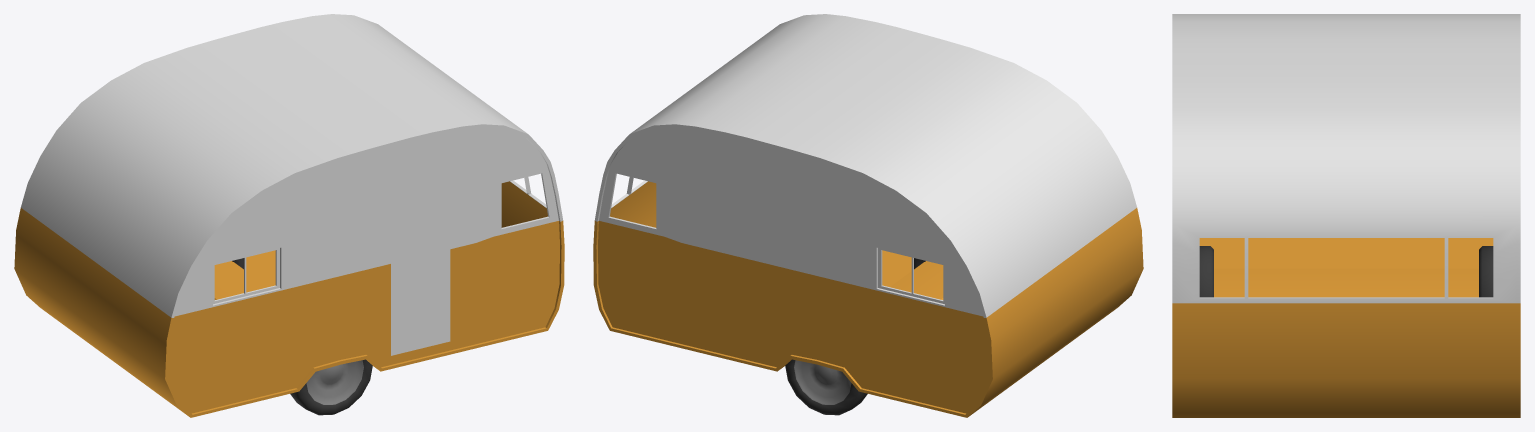
Rendered from camping_placeholder with color.fbx.
3 views of the same model, side by side, from view 1: azimuth 30°, elevation 25°; view 2: azimuth 150°, elevation 25°; view 3: azimuth 270°, elevation 25° (orthographic). The views are drawn at different scales.
Parts seen in each view (by area): view 1: Vert.001, Vert.007, Cylinder; view 2: Vert.001, Cylinder; view 3: Vert.001, Cylinder.
Boxes of the visible parts, x1,y1,x2,y2 form: Vert.001: (14,14,564,417); Vert.007: (391,150,450,355); Cylinder: (232,258,372,415); Vert.001: (593,14,1143,417); Cylinder: (785,258,925,415); Vert.001: (1172,14,1520,417); Cylinder: (1199,246,1493,297).
Bounding box in the file's own units: 407 × 259 × 266.
